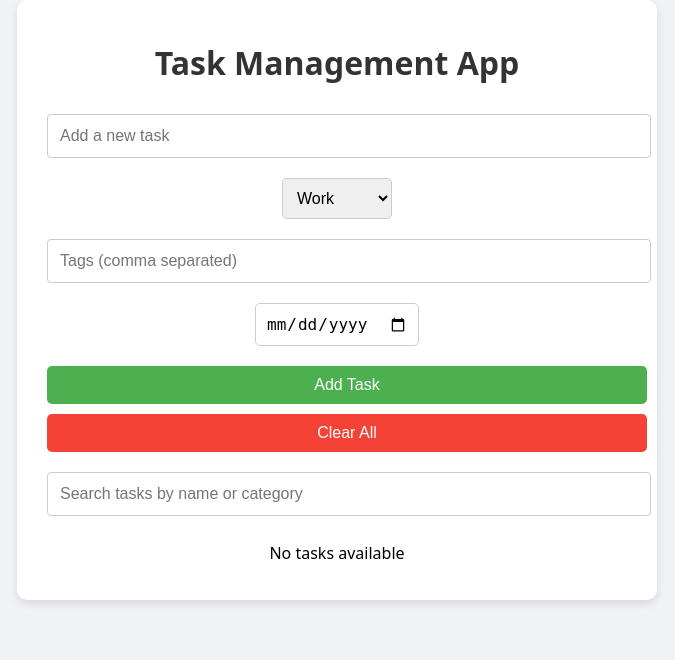
Test: adds a new task
In the field with placeholder "Add a new task": (349, 136) [47,114,651,158], type "New Task"
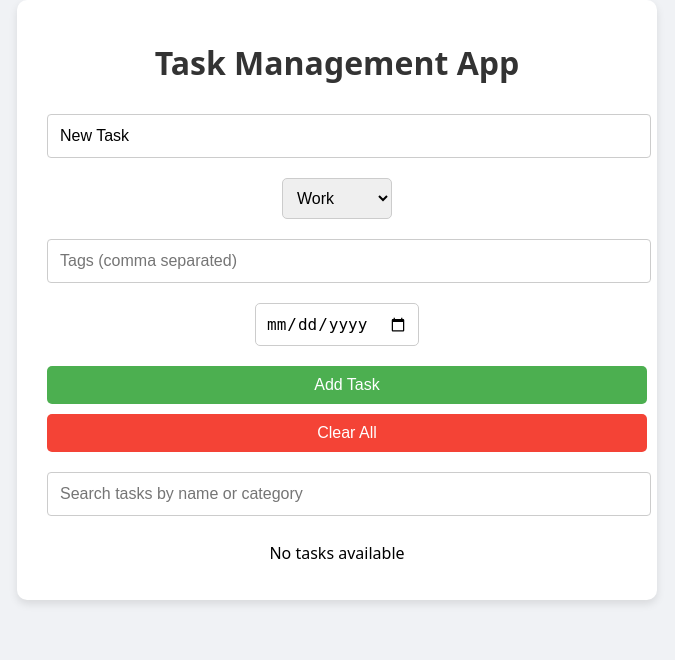
Click the button "Add Task": click(347, 385) [47,366,647,404]
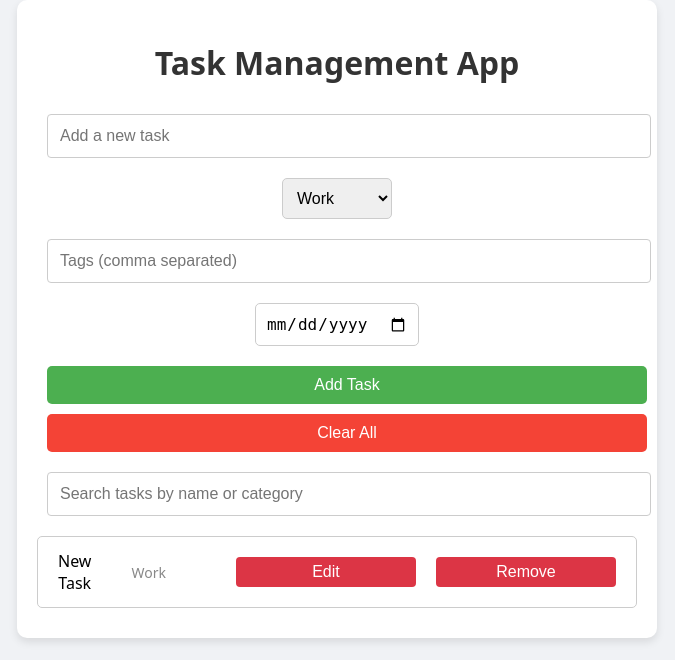
expect the text "New Task" is shown: met, box [58,550,92,594]
